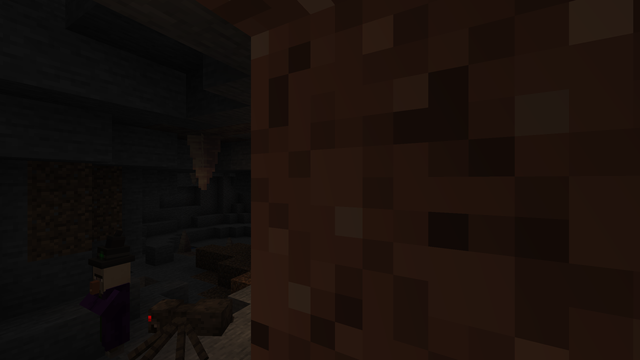araignees: (135, 283, 232, 359)
sorcieres: (87, 253, 134, 357)
